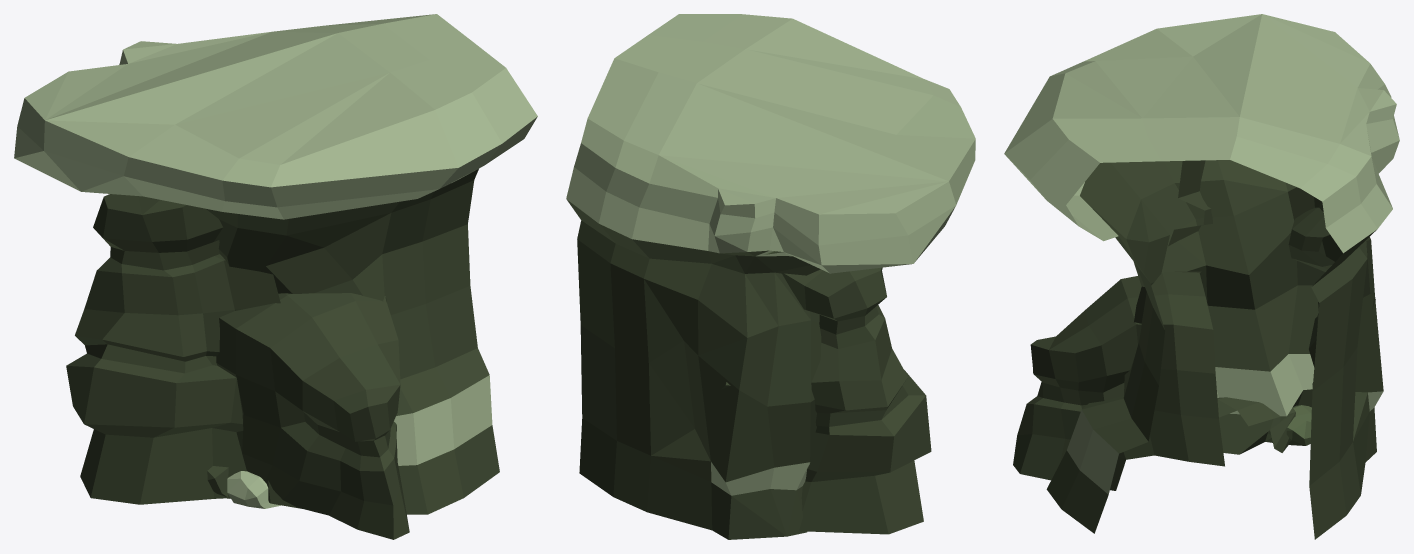
File: EA_Swamp_Wall_03c.glb
3 renders of one model, left to right at view 1: azimuth 30°, elevation 25°; view 2: azimuth 150°, elevation 25°; view 3: azimuth 270°, elevation 25°, orthographic. The views are drawn at different scales.
Parts seen in each view (by area): view 1: EA_Swamp_Wall_03c; view 2: EA_Swamp_Wall_03c; view 3: EA_Swamp_Wall_03c.
Boxes of the visible parts, x1=… form: EA_Swamp_Wall_03c: x1=14, y1=14, x2=537, y2=539; EA_Swamp_Wall_03c: x1=566, y1=14, x2=975, y2=539; EA_Swamp_Wall_03c: x1=1004, y1=14, x2=1399, y2=539.
Size of the model in its own units: 11.8 by 11.8 by 10.97.
1 material, 1 textured.
